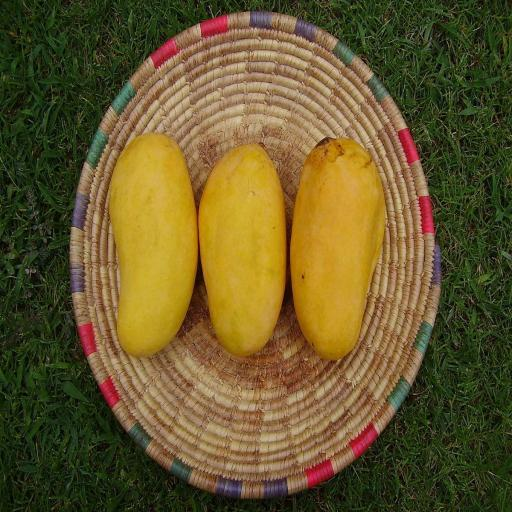mango: (291, 139, 385, 359), (109, 133, 197, 357), (199, 144, 286, 356)
